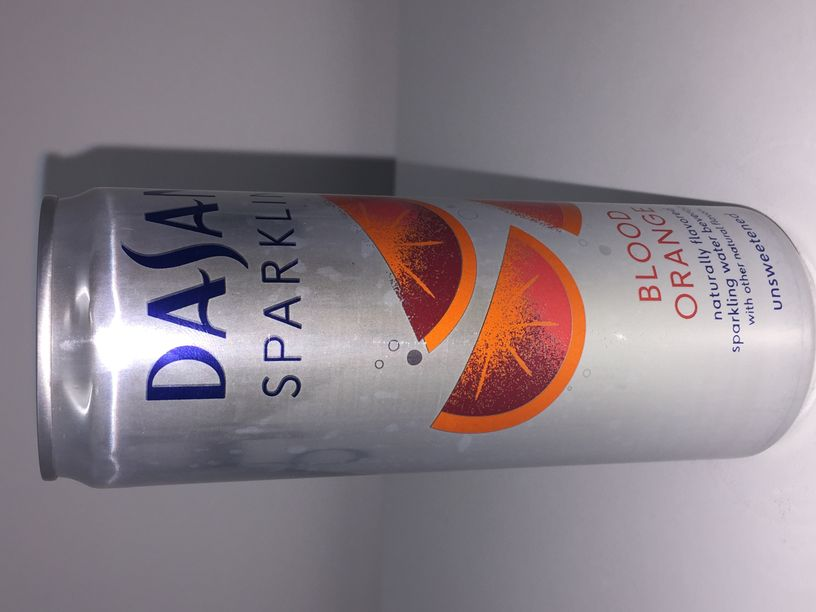blood_orange: (34, 186, 816, 488)
